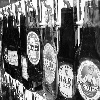beer: (56, 4, 80, 100)
